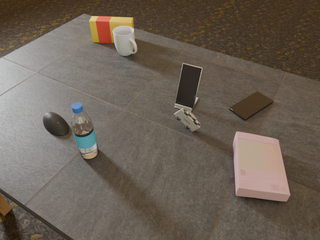book: (233, 132, 290, 201)
bottle: (71, 103, 99, 159)
box: (89, 16, 134, 43)
cup: (113, 26, 137, 56)
mouse: (43, 112, 69, 136)
phone: (229, 91, 273, 120), (175, 63, 202, 108)
toy_car: (174, 108, 200, 131)
